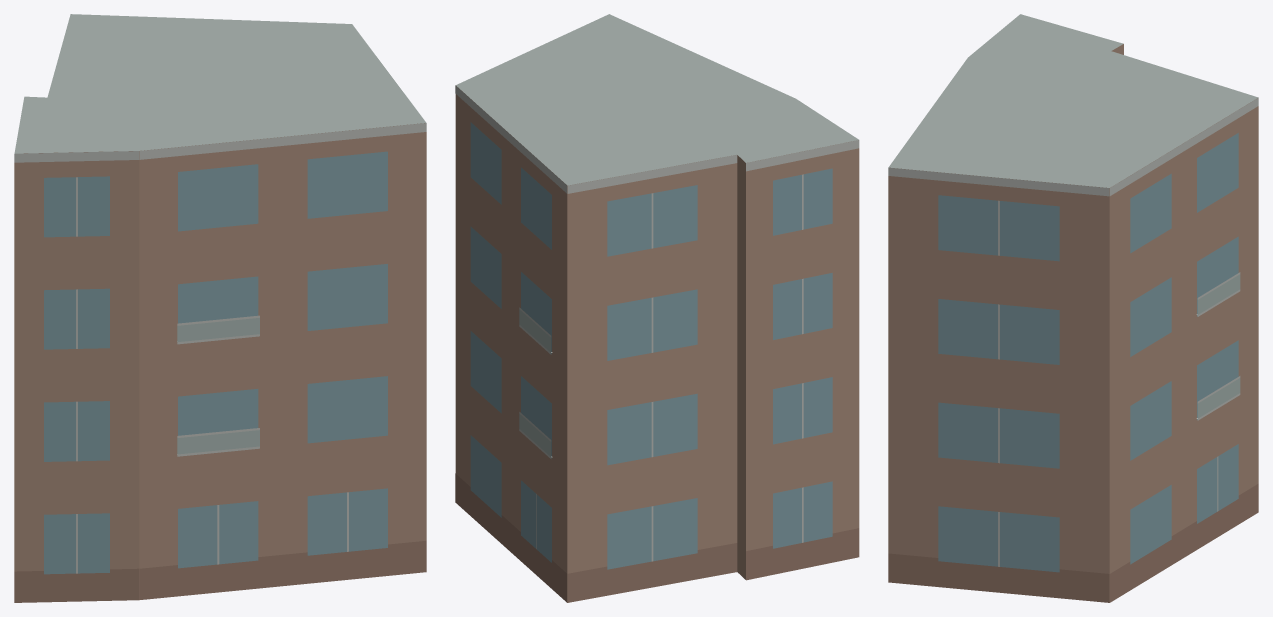
The model's file is survey-upis-32756907.glb.
3 renders of one model, left to right at view 1: azimuth 30°, elevation 25°; view 2: azimuth 150°, elevation 25°; view 3: azimuth 270°, elevation 25°, orthographic. The views are drawn at different scales.
Visible parts, largest first — view 1: survey-upis-32756907.tmp; view 2: survey-upis-32756907.tmp; view 3: survey-upis-32756907.tmp.
Boxes of the visible parts, x1,y1,x2,y2 form: survey-upis-32756907.tmp: (14,14,426,602); survey-upis-32756907.tmp: (455,14,859,602); survey-upis-32756907.tmp: (888,14,1258,602).
Size of the model in its own units: 10.9 by 12.1 by 9.8.
